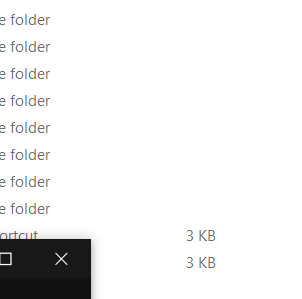close: (43, 243, 79, 274)
